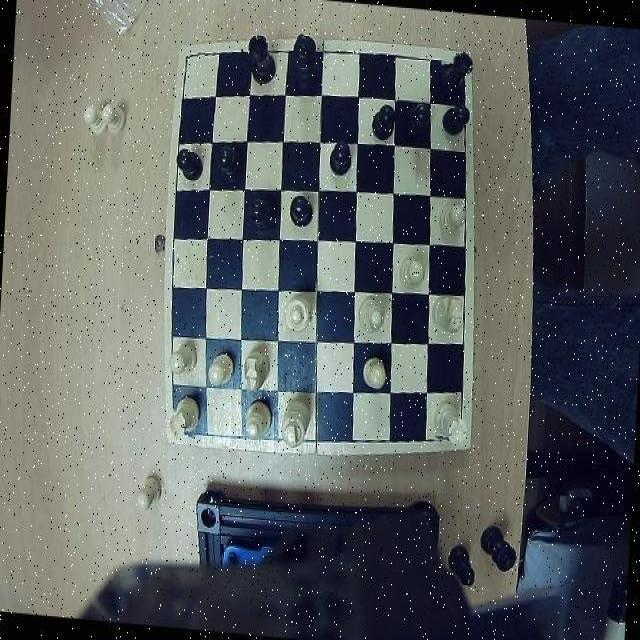chess-table-corners: (434, 414, 468, 450), (166, 410, 199, 442), (440, 50, 471, 82), (181, 44, 206, 72)
